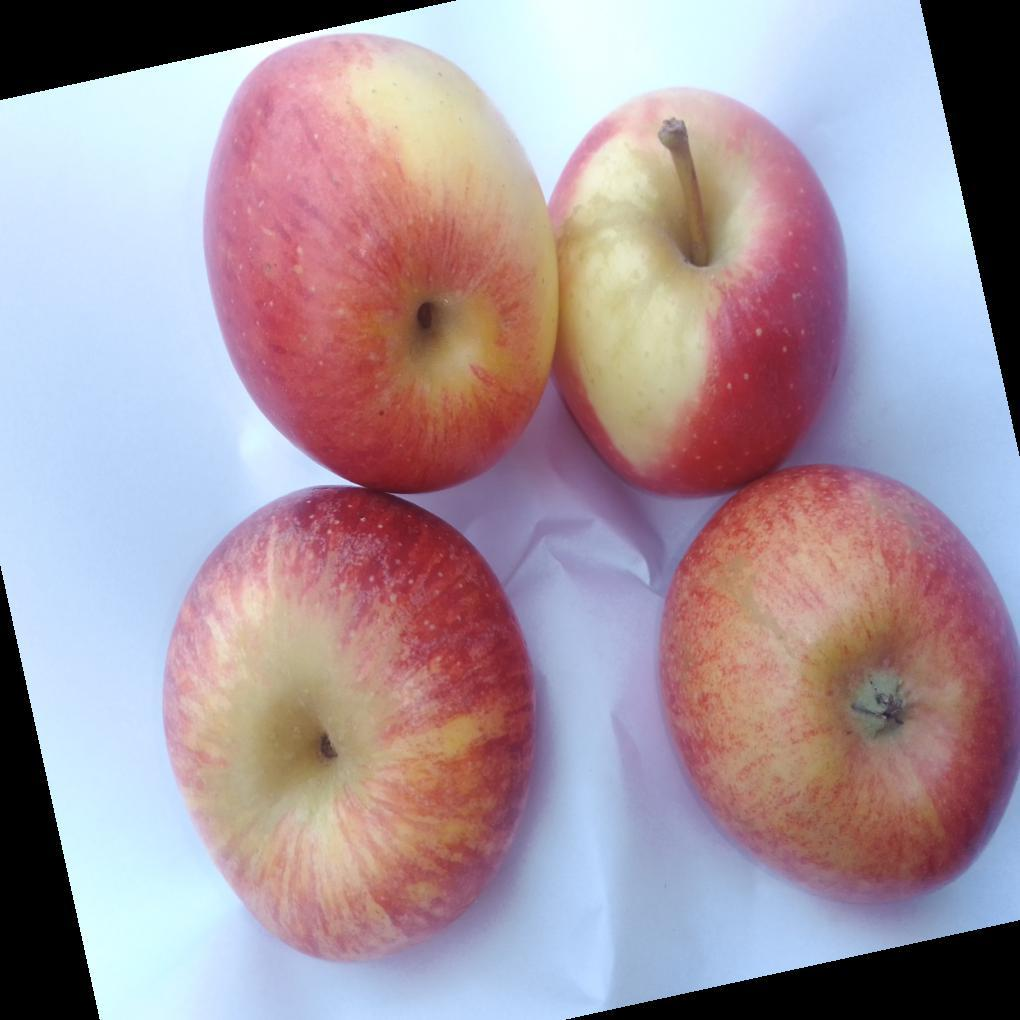FreshGuava: (163, 33, 1020, 966)
